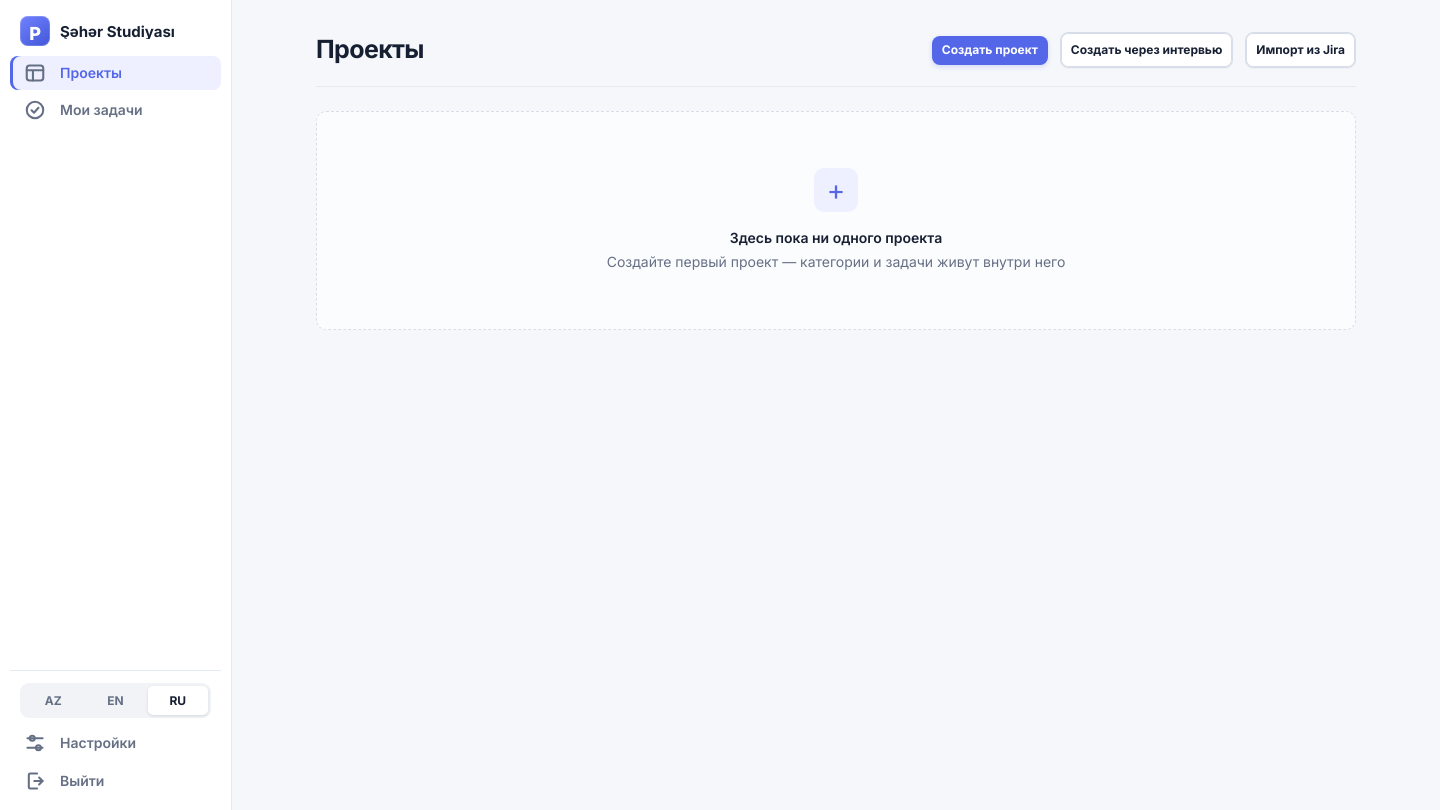
Test: шапка › переключает язык из самой колонки, над «Настройками»
Click the button "AZ".
click(53, 700)  # box [23, 686, 83, 715]
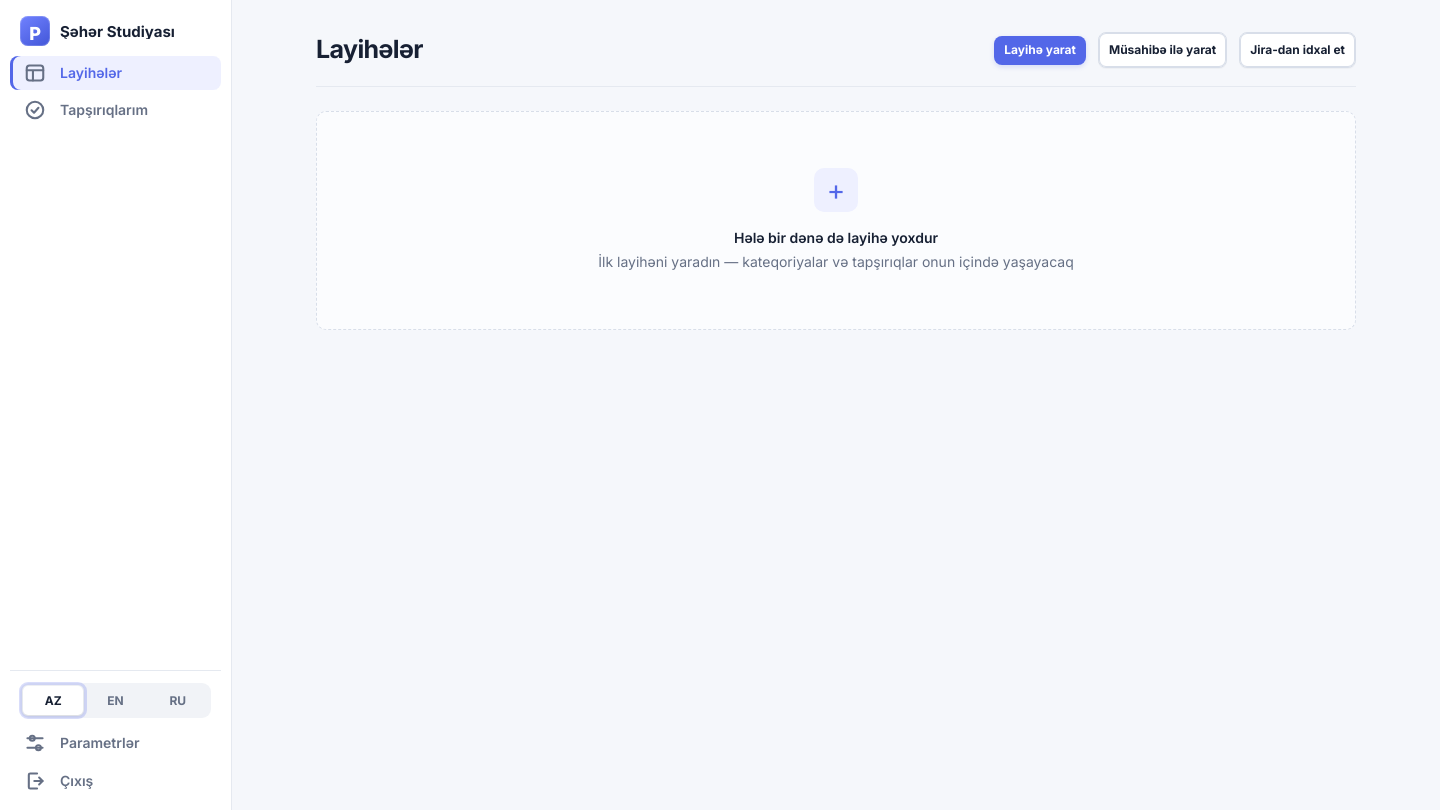
Result: the link "Layihələr" is shown at [10, 56, 221, 90]
